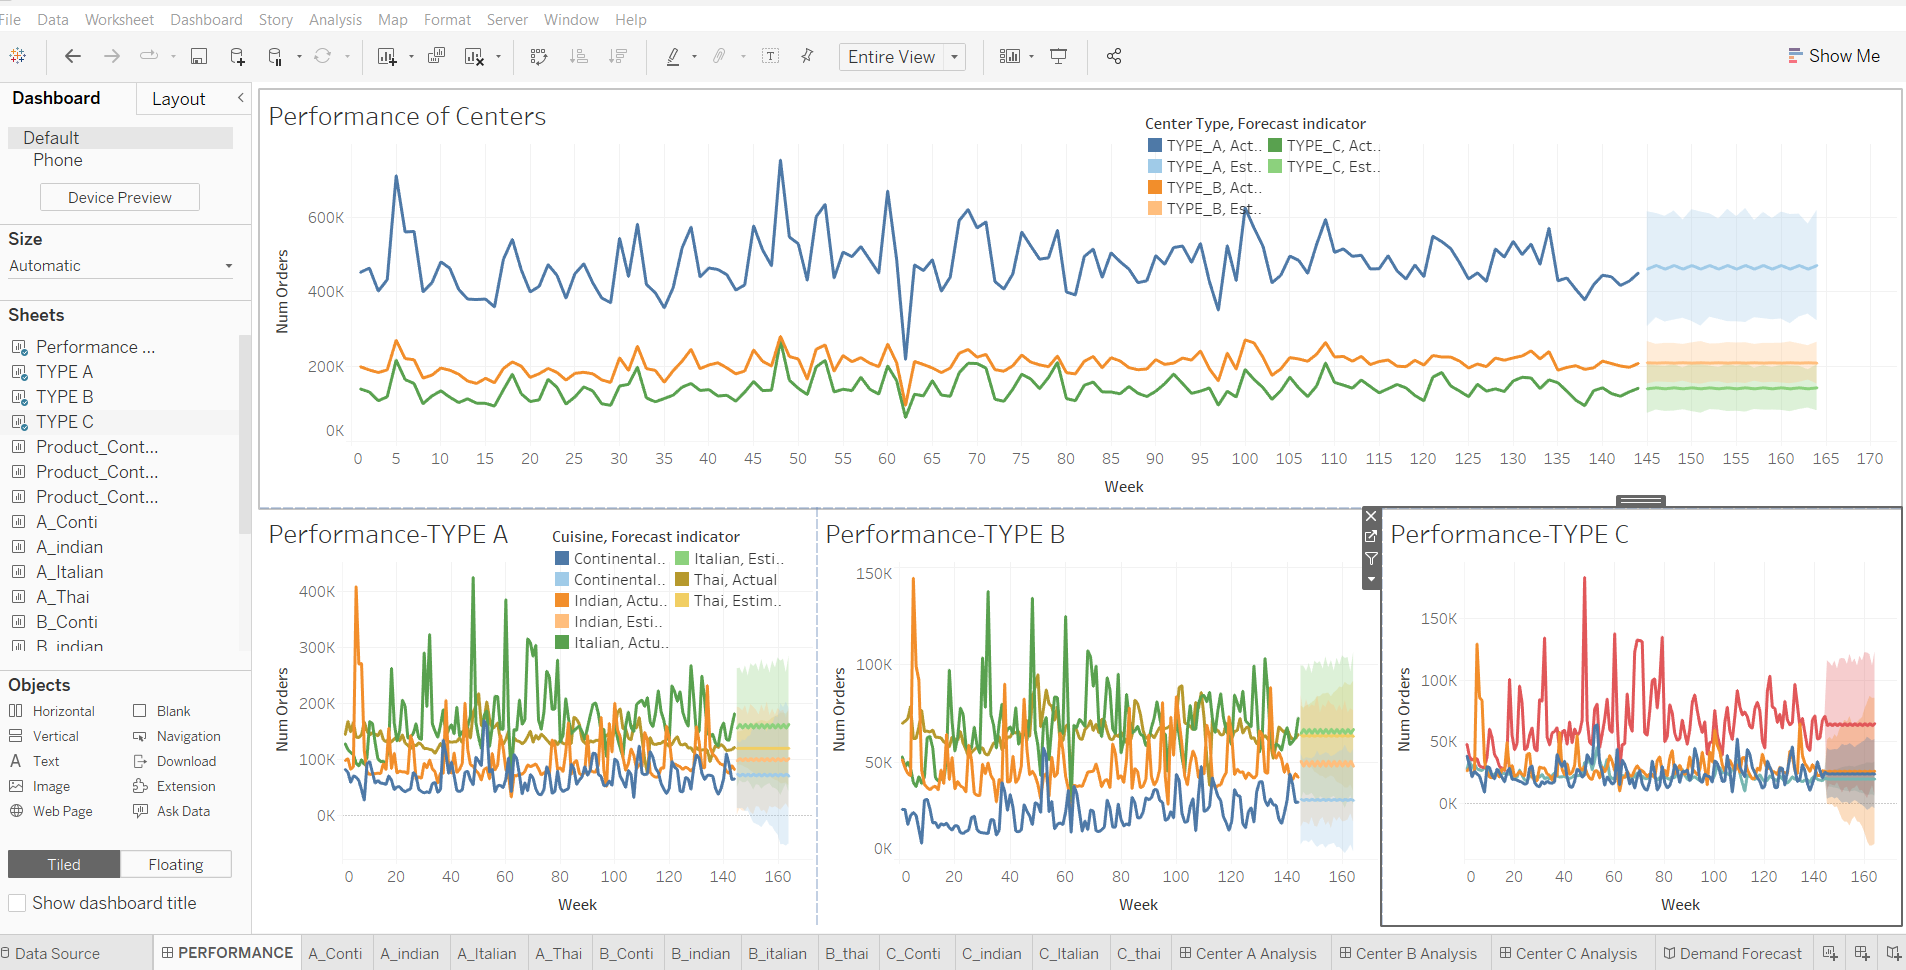

Layout of this report page (visuals, bound fields, positions):
{"tool":"tableau","page":{"name":"PERFORMANCE","canvas":[1000,1000],"units":"permille","ordinal":3},"visuals":[{"type":"worksheet","title":"Performance of Centers","mark":"Automatic","rows":["num_orders"],"cols":["week"],"box":[4.3,9.4,991.4,490.6]},{"type":"legend","title":"Performance of Centers","param":"[federated.02gnjzc1abb3r21g8mcvu0128urh].[none:center_type:nk]\n[federated.02gnjz","box":[538.8,36.4,249.7,124.6]},{"type":"worksheet","title":"TYPE A","mark":"Automatic","rows":["num_orders"],"cols":["week"],"box":[4.3,500,336.2,490.6]},{"type":"worksheet","title":"TYPE B","mark":"Automatic","rows":["num_orders"],"cols":["week"],"box":[340.6,500,341.4,490.6]},{"type":"worksheet","title":"TYPE C","mark":"Automatic","rows":["num_orders"],"cols":["week"],"box":[681.9,500,313.8,490.6]},{"type":"legend","title":"TYPE A","param":"[federated.02gnjzc1abb3r21g8mcvu0128urh].[none:cuisine:nk]\n[federated.02gnjzc1ab","box":[181.1,521.7,162,159.8]}]}

Visuals, with their boxes on the dashboard's canvas, which has no fixed pixel size, in thousandths of its width and height (x1, y1, x2, y2). These are canvas units, not pixel positions in the 1906x970 screenshot, which may show the page scaled, cropped or inside an application window:
"Performance of Centers" worksheet: (left=4, top=9, right=996, bottom=500)
"Performance of Centers" legend: (left=539, top=36, right=788, bottom=161)
"TYPE A" worksheet: (left=4, top=500, right=340, bottom=991)
"TYPE B" worksheet: (left=341, top=500, right=682, bottom=991)
"TYPE C" worksheet: (left=682, top=500, right=996, bottom=991)
"TYPE A" legend: (left=181, top=522, right=343, bottom=682)
